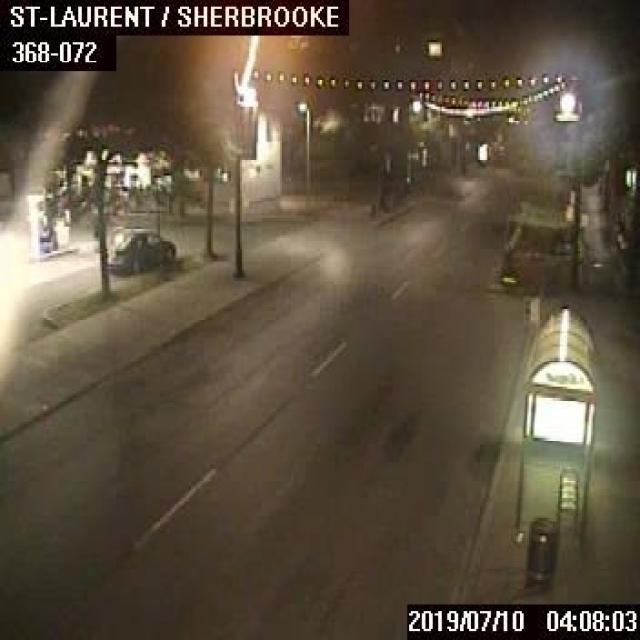vehicle: (106, 225, 174, 269)
